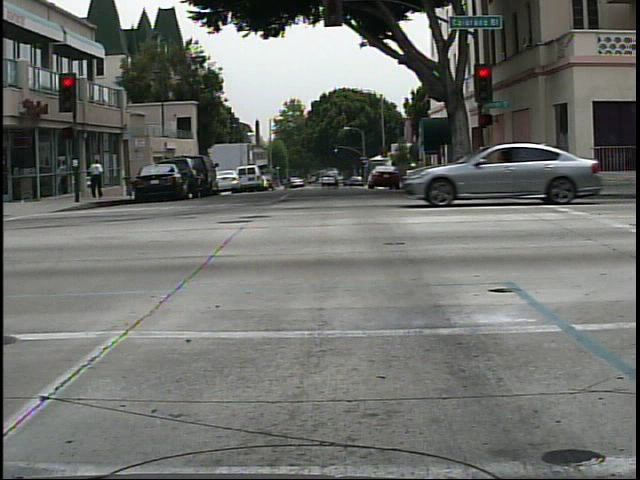person: (468, 142, 498, 194), (90, 154, 108, 202)
